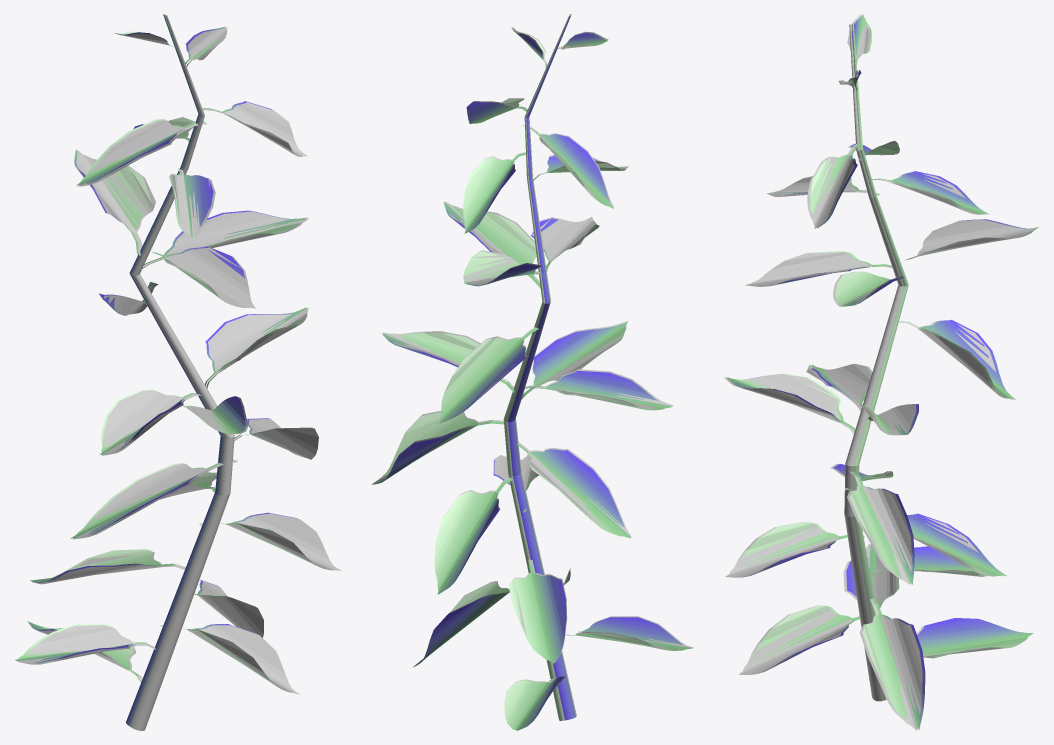
Rendered from algues2.obj.
3 renders of one model, left to right at view 1: azimuth 30°, elevation 25°; view 2: azimuth 150°, elevation 25°; view 3: azimuth 270°, elevation 25°, orthographic. The views are drawn at different scales.
Visible parts, largest first — view 1: Plane, Cylinder.001, Cylinder; view 2: Cylinder.001, Plane, Cylinder; view 3: Cylinder.001, Plane, Cylinder.
Part boxes in pixels (<box>): Plane: <box>17,27,341,694</box>; Cylinder.001: <box>15,14,315,725</box>; Cylinder: <box>129,15,234,730</box>; Cylinder.001: <box>372,15,693,730</box>; Plane: <box>372,27,694,721</box>; Cylinder: <box>515,14,576,716</box>; Cylinder.001: <box>727,14,1038,729</box>; Plane: <box>724,14,1036,730</box>; Cylinder: <box>844,24,904,701</box>.
Bounding box in the file's own units: 3.08 × 6.72 × 2.83.
Materials: 2 (1 with a texture image).
